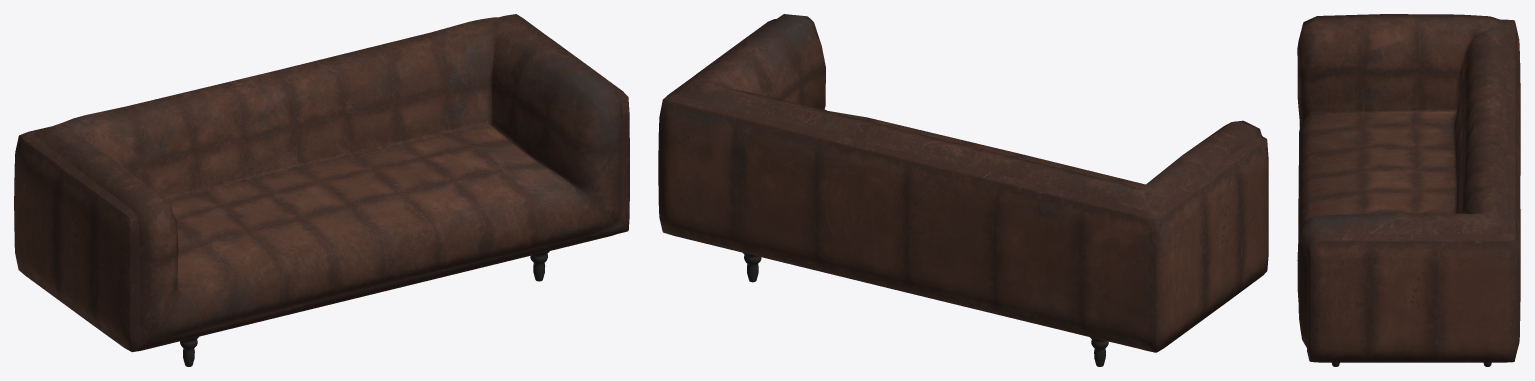
The model's file is sofa_orig.glb.
3 renders of one model, left to right at view 1: azimuth 30°, elevation 25°; view 2: azimuth 150°, elevation 25°; view 3: azimuth 270°, elevation 25°, orthographic. The views are drawn at different scales.
Parts seen in each view (by area): view 1: Sofa; view 2: Sofa; view 3: Sofa.
Part boxes in pixels (x1=…): Sofa: x1=14, y1=14, x2=629, y2=366; Sofa: x1=658, y1=14, x2=1268, y2=366; Sofa: x1=1297, y1=14, x2=1520, y2=366.
Size of the model in its own units: 2.19 by 0.781 by 0.9179.
Materials: 1 (1 with a texture image).
